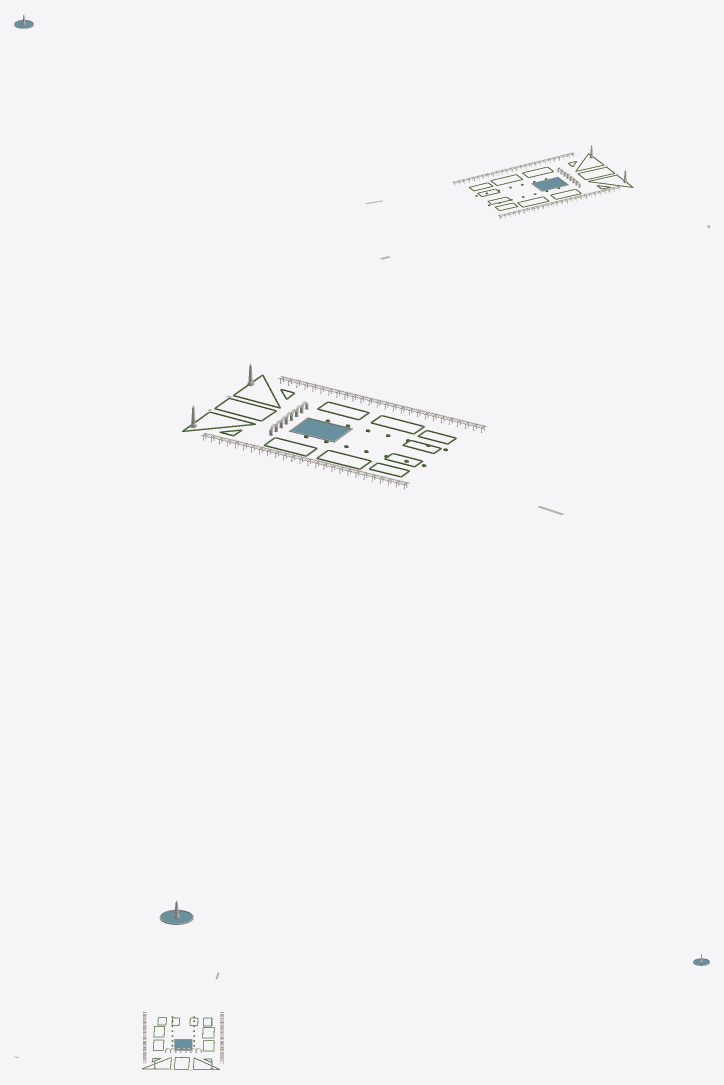
3 views of the same model, one above another, from view 1: azimuth 30°, elevation 25°; view 2: azimuth 150°, elevation 25°; view 3: azimuth 270°, elevation 25° (orthographic). The views are drawn at different scales.
Visible parts, largest first — view 1: library-plaza-hedges__hedge, library-plaza-arches__graniteWhite, library-plaza-pergolas__woodRiser, library-plaza-basin__water; view 2: library-plaza-hedges__hedge, library-plaza-arches__graniteWhite, library-plaza-basin__water; view 3: library-plaza-hedges__hedge, library-plaza-pergolas__woodRiser, library-plaza-arches__graniteWhite, library-plaza-basin__water, library-plaza-arches__graniteWarm.
Part boxes in pixels (x1=…): library-plaza-hedges__hedge: x1=469, y1=153, x2=633, y2=210; library-plaza-arches__graniteWhite: x1=22, y1=14, x2=627, y2=218; library-plaza-pergolas__woodRiser: x1=453, y1=153, x2=619, y2=215; library-plaza-basin__water: x1=14, y1=20, x2=566, y2=190; library-plaza-hedges__hedge: x1=182, y1=374, x2=456, y2=477; library-plaza-arches__graniteWhite: x1=173, y1=363, x2=486, y2=917; library-plaza-basin__water: x1=160, y1=418, x2=349, y2=923; library-plaza-hedges__hedge: x1=142, y1=1016, x2=219, y2=1069; library-plaza-pergolas__woodRiser: x1=143, y1=1012, x2=223, y2=1060; library-plaza-arches__graniteWhite: x1=143, y1=953, x2=702, y2=1068; library-plaza-basin__water: x1=174, y1=958, x2=709, y2=1049; library-plaza-arches__graniteWarm: x1=143, y1=958, x2=709, y2=1069.
Bounding box in the file's own units: 369 × 30.32 × 900.
7 materials, 1 textured.
